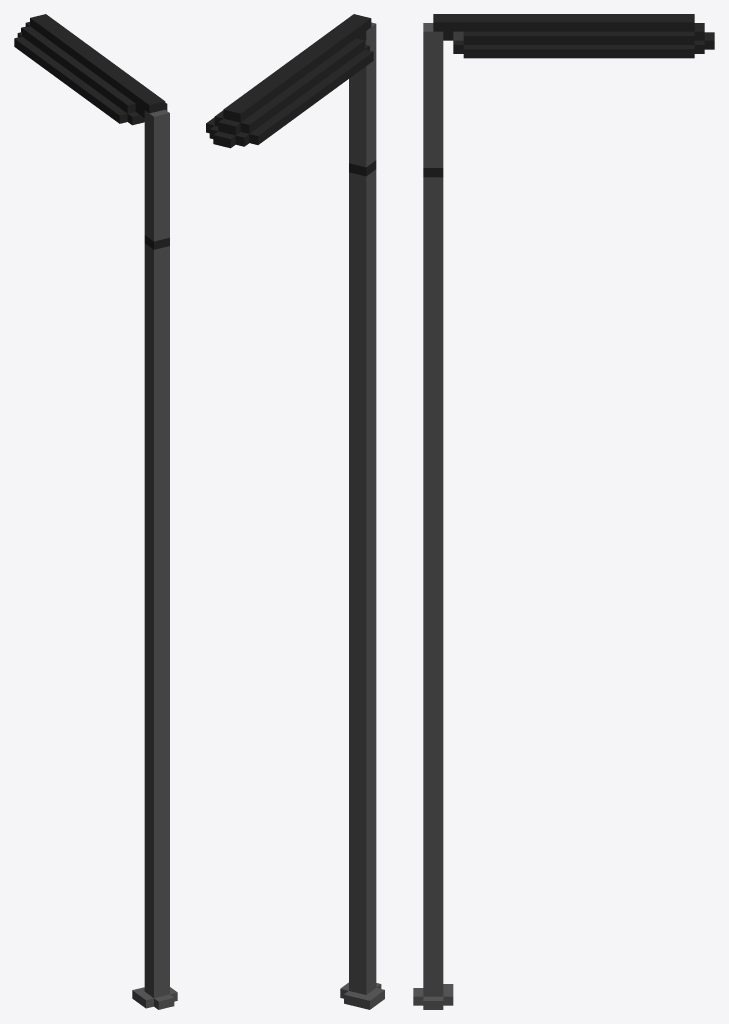
File: lampThree.glb
3 views of the same model, side by side, from view 1: azimuth 30°, elevation 25°; view 2: azimuth 150°, elevation 25°; view 3: azimuth 270°, elevation 25° (orthographic). The views are drawn at different scales.
Parts seen in each view (by area): view 1: ObjObject; view 2: ObjObject; view 3: ObjObject.
Boxes of the visible parts, x1,y1,x2,y2 form: ObjObject: (14,14,177,1009); ObjObject: (206,14,384,1009); ObjObject: (413,14,714,1009).
Bounding box in the file's own units: 0.6 × 10.8 × 3.
2 materials, 1 textured.
